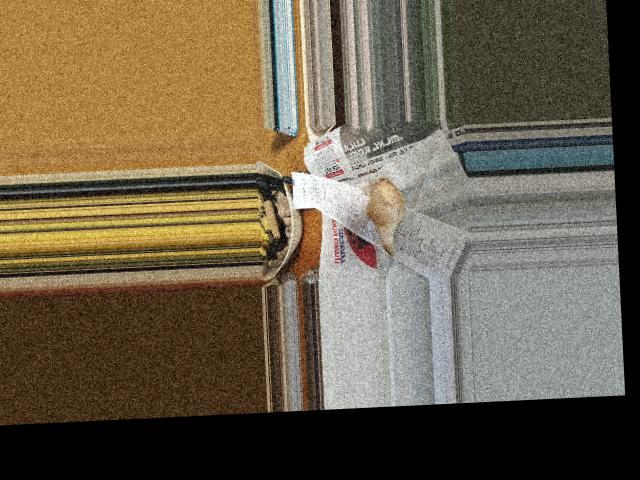onion: (364, 173, 402, 239)
